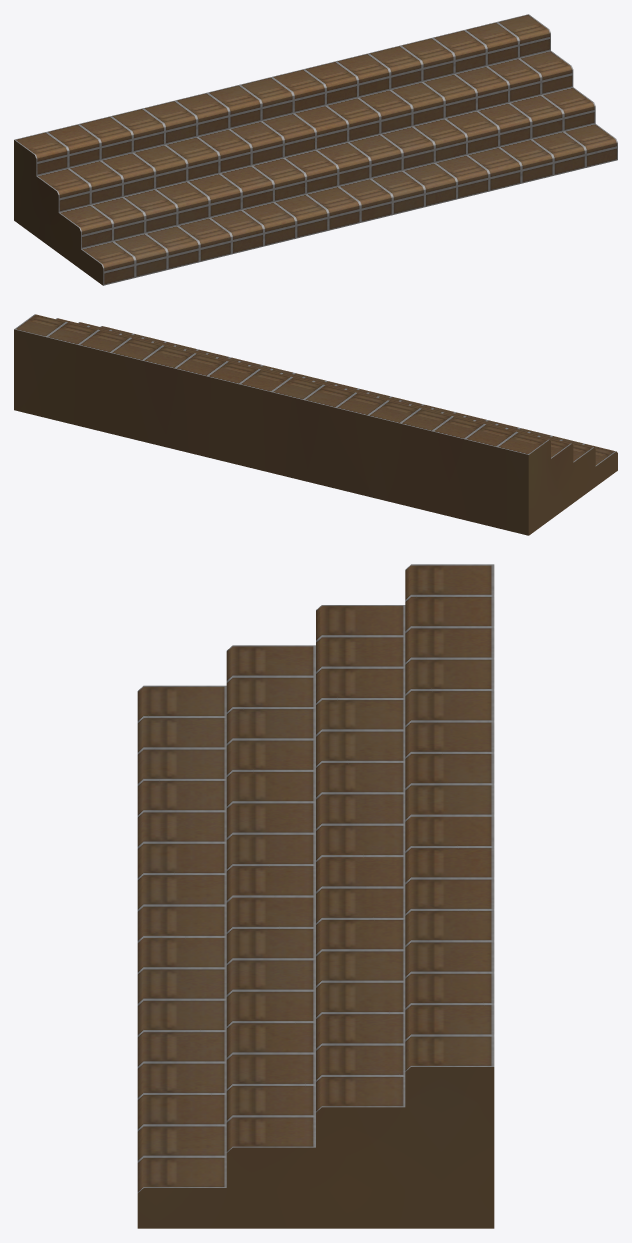
File: set_floor_02b_01_stairs.fbx
The picture shows the model from 3 angles, top to bottom: view 1: azimuth 30°, elevation 25°; view 2: azimuth 150°, elevation 25°; view 3: azimuth 270°, elevation 25°; orthographic projection. The views are drawn at different scales.
Parts seen in each view (by area): view 1: set_floor_02b_01_stairs; view 2: set_floor_02b_01_stairs; view 3: set_floor_02b_01_stairs.
Part boxes in pixels (left/top/right/bottom): set_floor_02b_01_stairs: left=14, top=14, right=617, bottom=285; set_floor_02b_01_stairs: left=14, top=314, right=617, bottom=535; set_floor_02b_01_stairs: left=137, top=564, right=494, bottom=1228.
Bounding box in the file's own units: 400 × 60 × 120.
